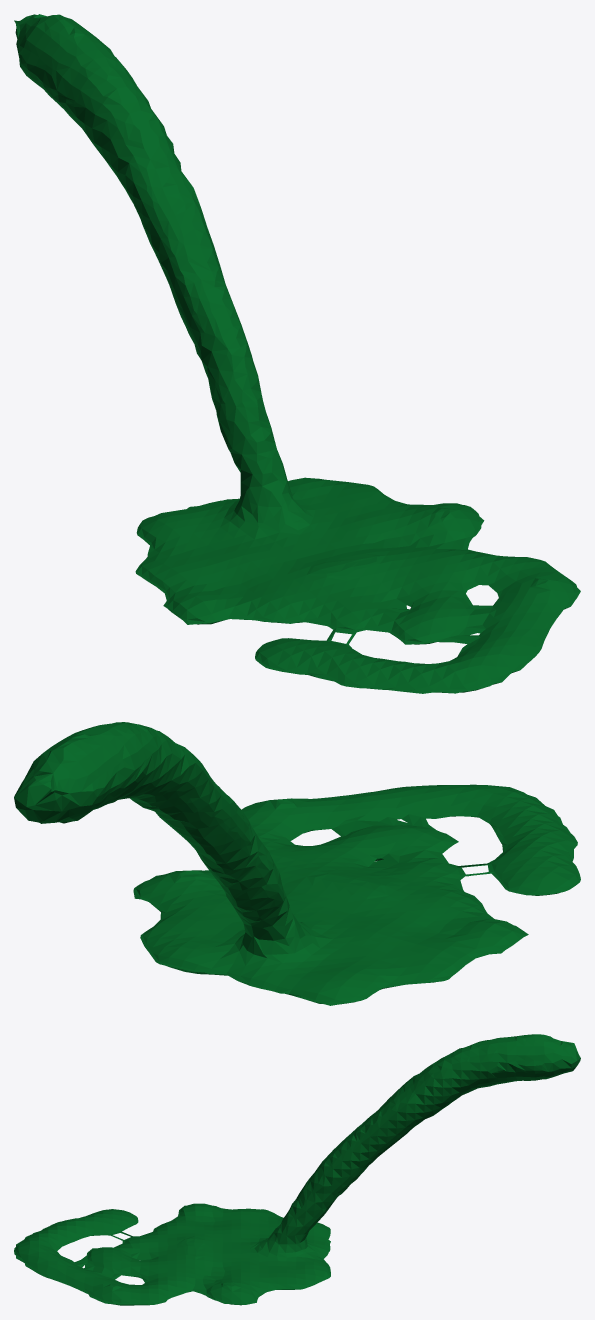
The model's file is fluid_5.fbx.
3 renders of one model, top to bottom at view 1: azimuth 30°, elevation 25°; view 2: azimuth 150°, elevation 25°; view 3: azimuth 270°, elevation 25°, orthographic. The views are drawn at different scales.
Visible parts, largest first — view 1: Cube; view 2: Cube; view 3: Cube.
Part boxes in pixels (box(x1,y1,x2,y2)): Cube: box(14, 14, 580, 693); Cube: box(14, 722, 580, 1005); Cube: box(14, 1034, 580, 1305).
Size of the model in its own units: 168 by 177 by 405.
